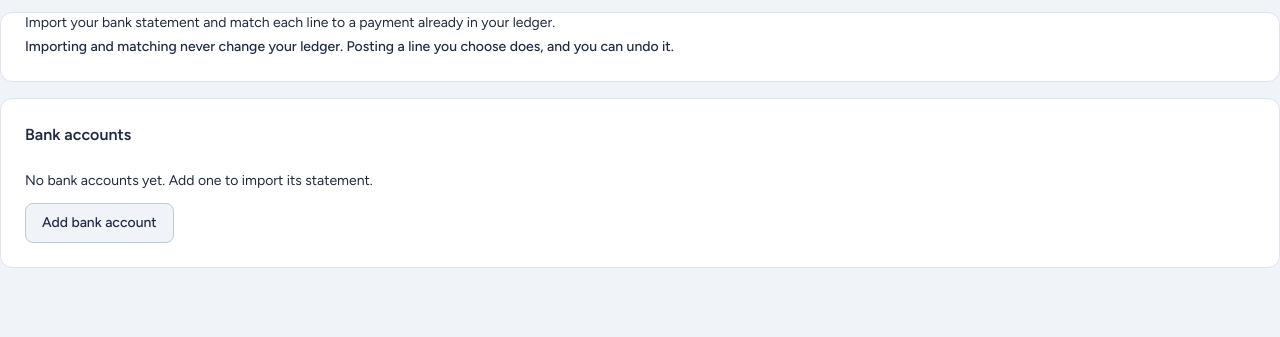
Test: Bank: actions (one call at a time) › adds a bank account with only the last 4 digits
Later steps or results of the test are not shown.
Expected: the text "No bank accounts yet. Add one to import its statement." is shown, [25,172,373,189]
Click the button "Add bank account" at (99, 223), box [25,203,174,243]
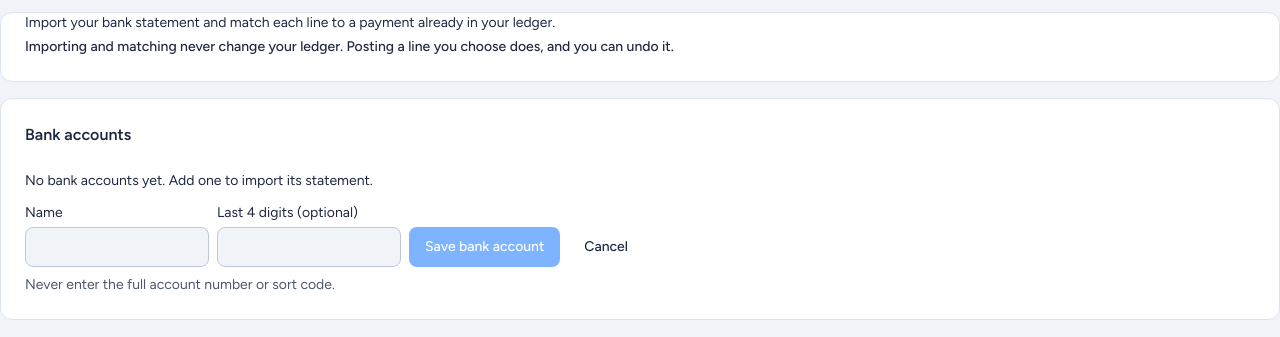
Type "Business current" into the field labelled "Name" at (117, 247), box [25,227,209,267]
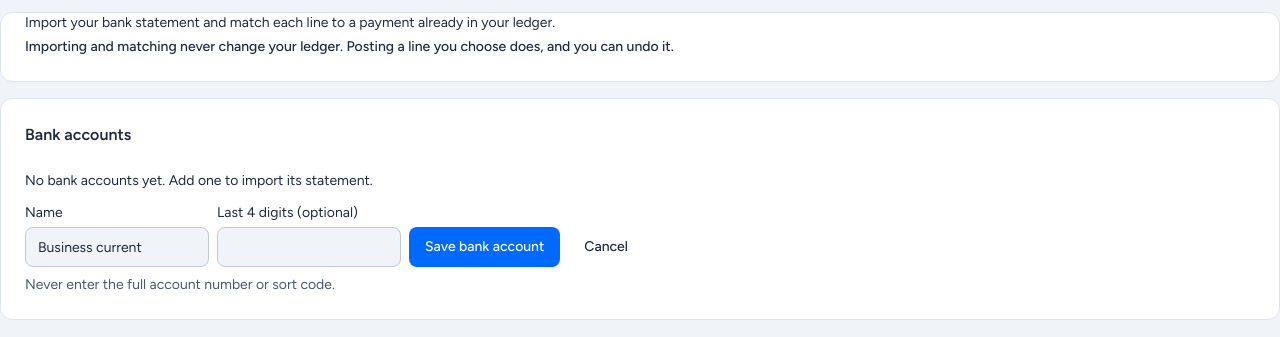
Type "12a34567" into the field labelled "Last 4 digits (optional)" at (309, 247), box [217,227,401,267]
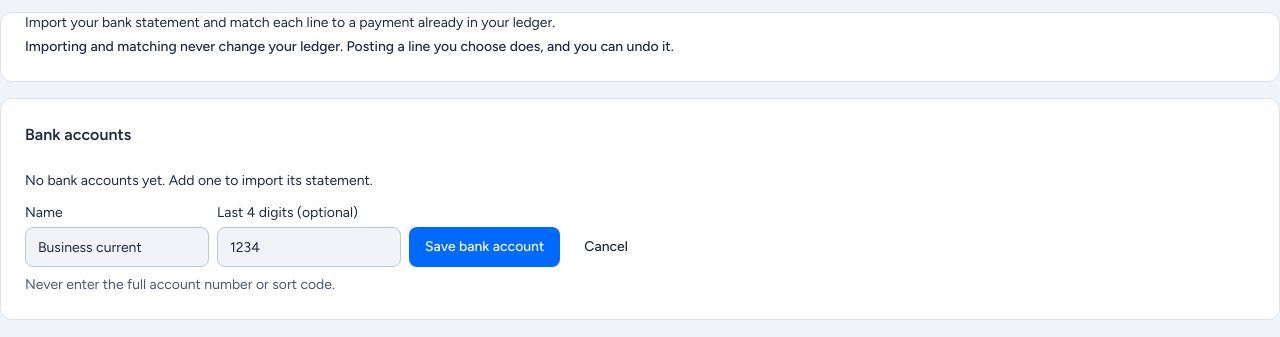
Now the text "Never enter the full account number or sort code." is shown, box [25,276,335,293]
Now the field labelled "Last 4 digits (optional)" holds "1234", box [217,227,401,267]
